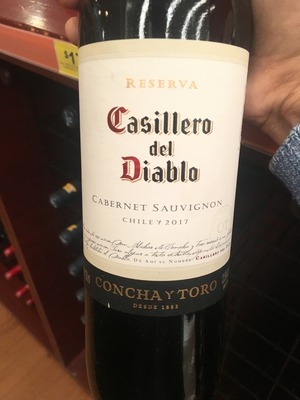casillero del diablo cabernet sauvignon: (70, 2, 244, 394)
